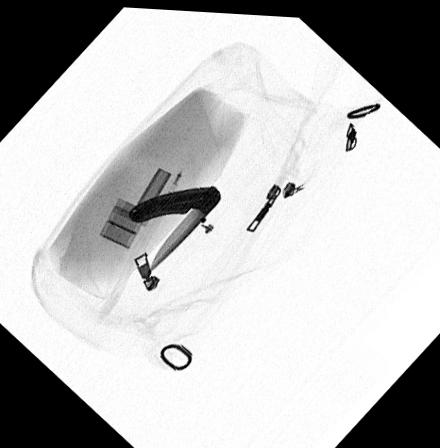Knife: (124, 180, 221, 275)
